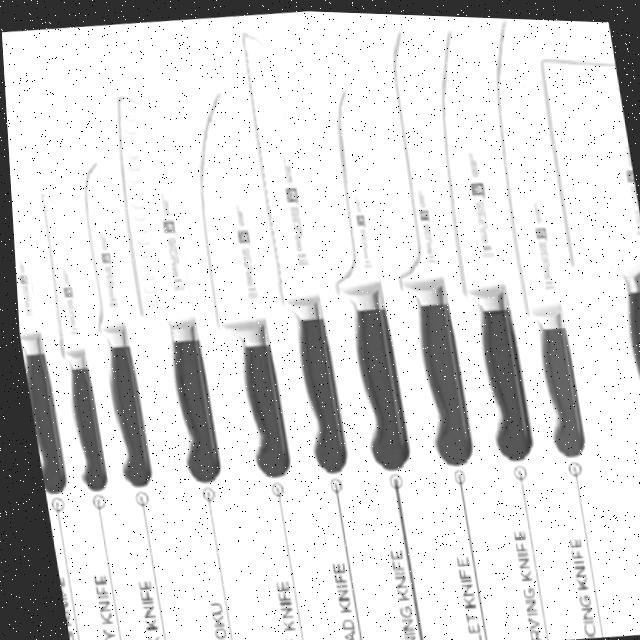knife: (418, 20, 537, 456), (360, 23, 477, 463), (233, 26, 348, 473), (475, 14, 592, 452), (98, 91, 222, 483), (177, 87, 292, 475), (534, 45, 640, 452), (306, 81, 414, 471), (68, 156, 151, 484), (32, 190, 103, 485), (9, 189, 71, 492)
